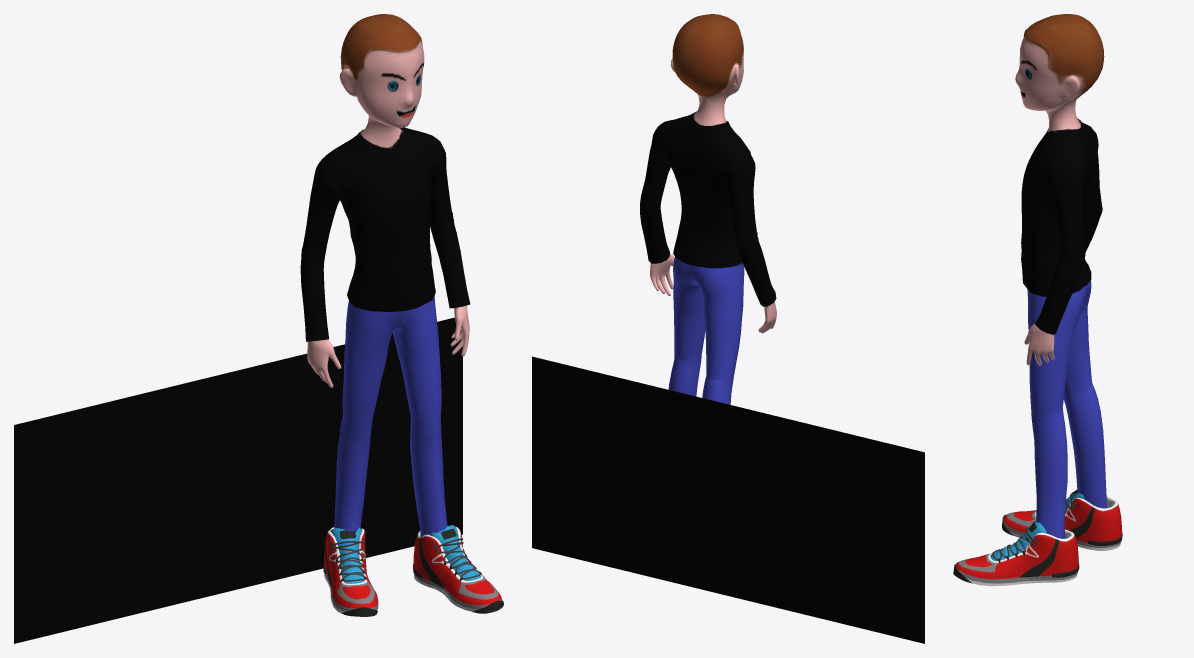
The model's file is chico4 -fase2.fbx.
The picture shows the model from 3 angles, left to right: view 1: azimuth 30°, elevation 25°; view 2: azimuth 150°, elevation 25°; view 3: azimuth 270°, elevation 25°; orthographic projection. The views are drawn at different scales.
Visible parts, largest first — view 1: node_id9, node_id6, node_id53, node_id38; view 2: node_id9, node_id6; view 3: node_id6, node_id53, node_id38.
Part boxes in pixels (x1,y1,x2,y2): node_id9: [14, 317, 462, 643]; node_id6: [300, 14, 470, 537]; node_id53: [413, 525, 503, 613]; node_id38: [323, 527, 378, 616]; node_id9: [532, 356, 924, 643]; node_id6: [640, 14, 776, 404]; node_id6: [1015, 14, 1107, 538]; node_id53: [953, 521, 1079, 586]; node_id38: [1002, 489, 1122, 550].
Size of the model in its own units: 0.512 by 0.6479 by 0.237.
3 materials, 3 textured.
